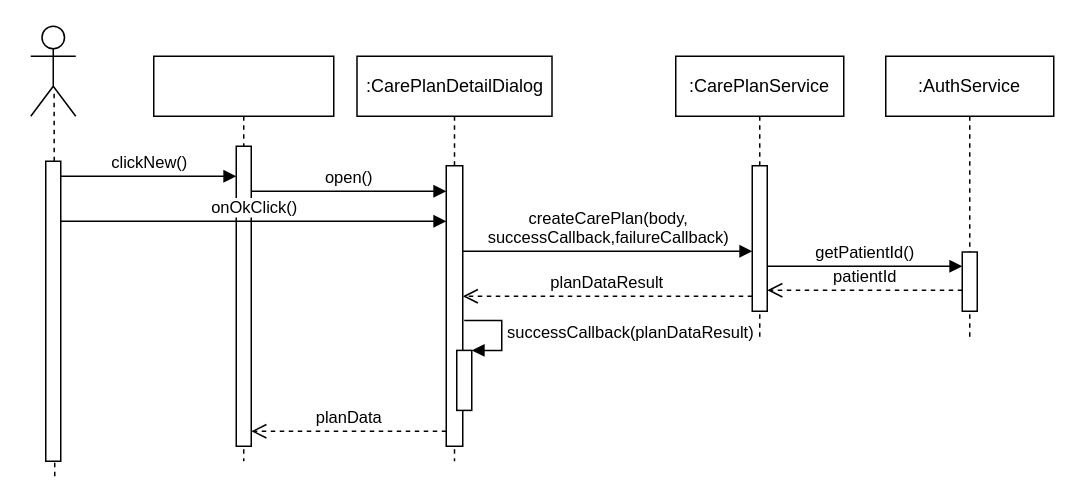
The diagram is 1080 pixels wide and 504 high, and some of its shapes have lost their labels. Here are the shapes that lost their labels. From the top down, the box of each, then its label:
(29, 25, 76, 116): Patient
(152, 55, 334, 461): :CarePlanComponent
